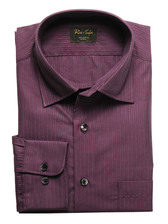clothoes: (11, 15, 157, 219)
